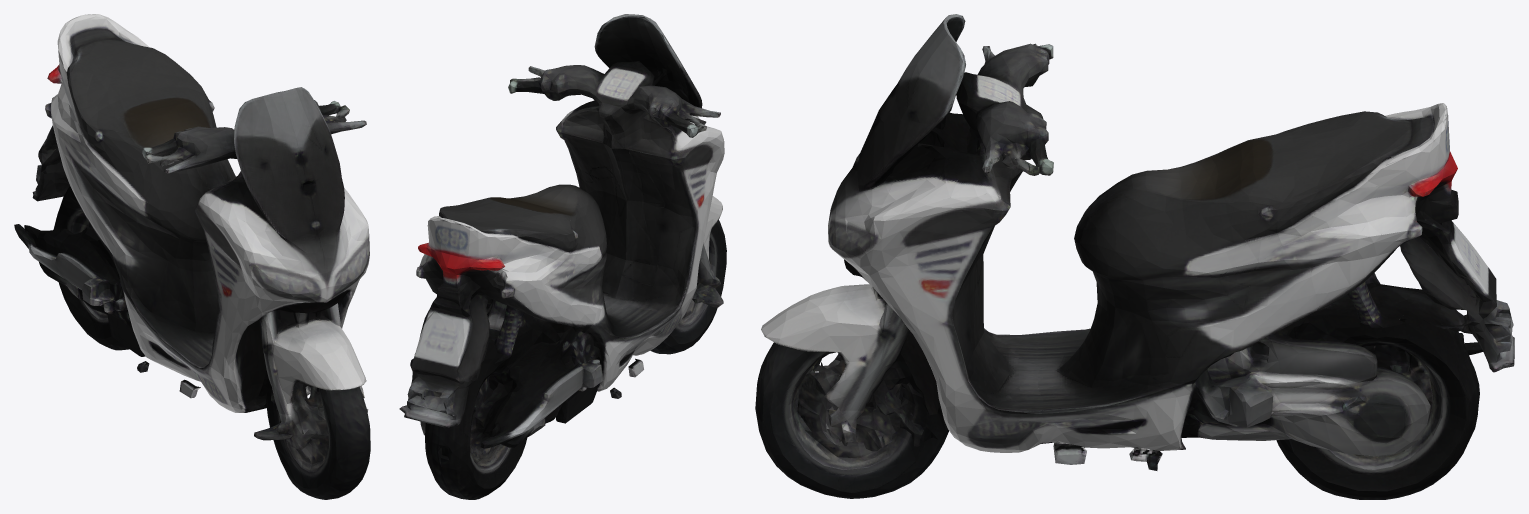
The model's file is APRILIA SXR 160.glb.
3 renders of one model, left to right at view 1: azimuth 30°, elevation 25°; view 2: azimuth 150°, elevation 25°; view 3: azimuth 270°, elevation 25°, orthographic. The views are drawn at different scales.
Parts seen in each view (by area): view 1: world; view 2: world; view 3: world.
Boxes of the visible parts, x1,y1,x2,y2 form: world: [14, 14, 370, 499]; world: [399, 14, 726, 499]; world: [755, 14, 1514, 499].
Size of the model in its own units: 0.3892 by 0.6868 by 0.9999.
1 material, 1 textured.
